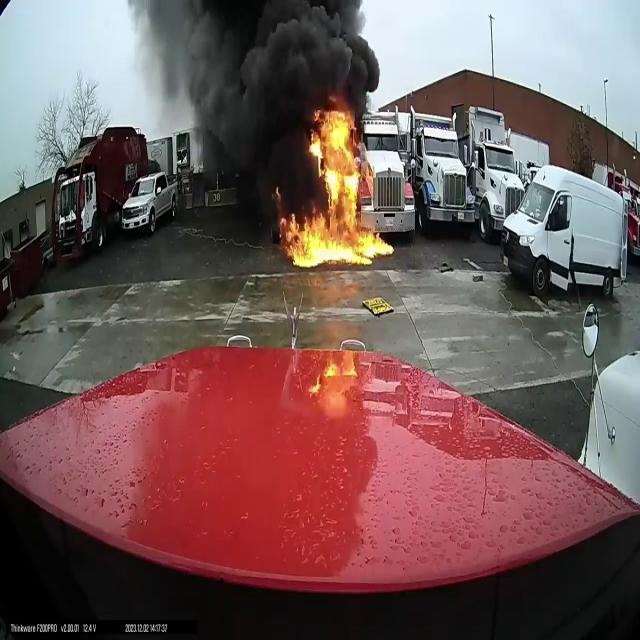Fire: (283, 104, 391, 268)
Smoke: (155, 0, 385, 209)
